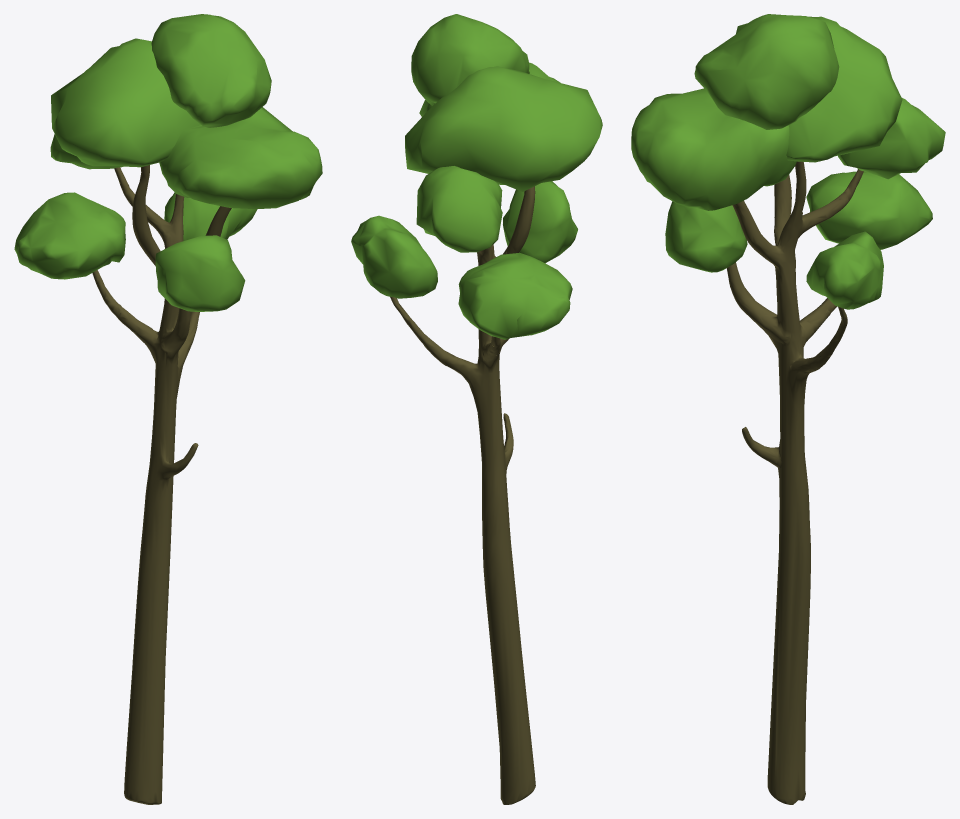
File: AfricaTree08.fbx
The picture shows the model from 3 angles, left to right: view 1: azimuth 30°, elevation 25°; view 2: azimuth 150°, elevation 25°; view 3: azimuth 270°, elevation 25°; orthographic projection. The views are drawn at different scales.
Parts seen in each view (by area): view 1: Leaves, Trunk; view 2: Leaves, Trunk; view 3: Leaves, Trunk.
Boxes of the visible parts, bbox=[...] form: Leaves: bbox=[14, 14, 322, 311]; Trunk: bbox=[92, 165, 231, 804]; Leaves: bbox=[351, 14, 602, 339]; Trunk: bbox=[390, 186, 535, 804]; Leaves: bbox=[631, 14, 945, 309]; Trunk: bbox=[726, 161, 863, 804].
Bounding box in the file's own units: 49.08 × 162 × 56.84.
